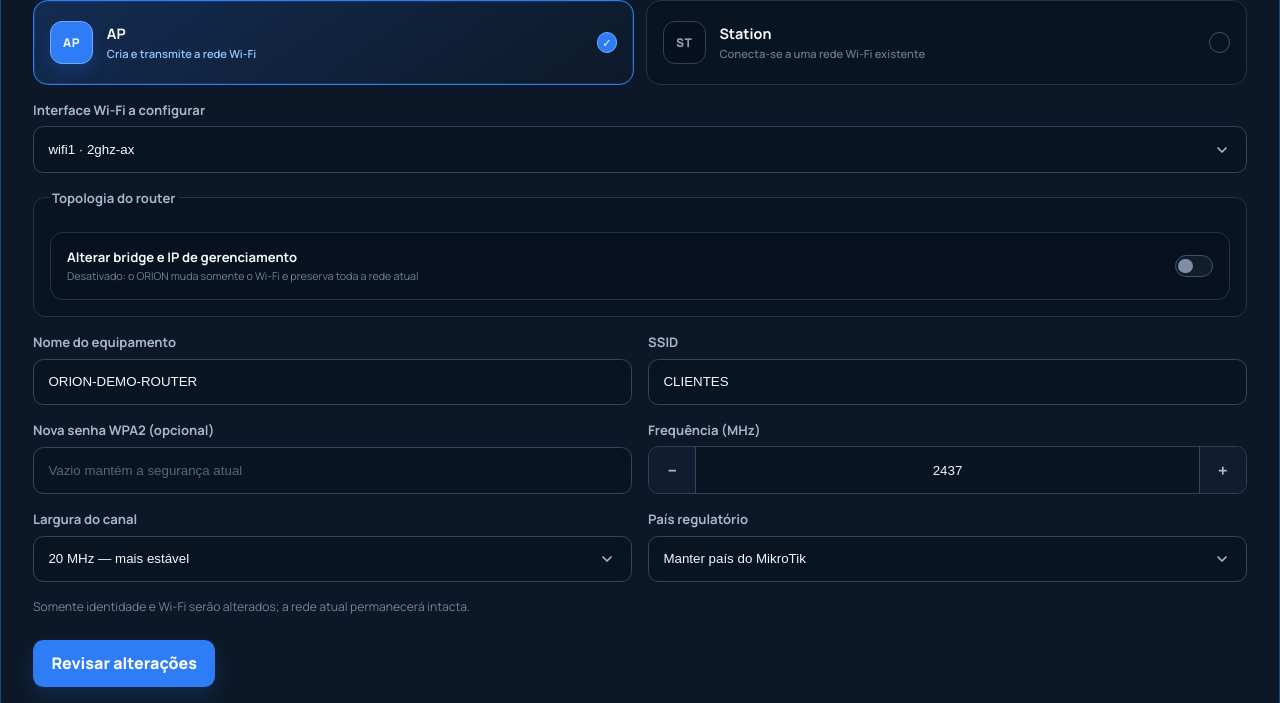
Test case: failed apply releases the operation guard and preserves the field draft
(page scrolled)
Click the button "Revisar alterações".
click(124, 664)  # box [33,640,215,687]
(page scrolled)
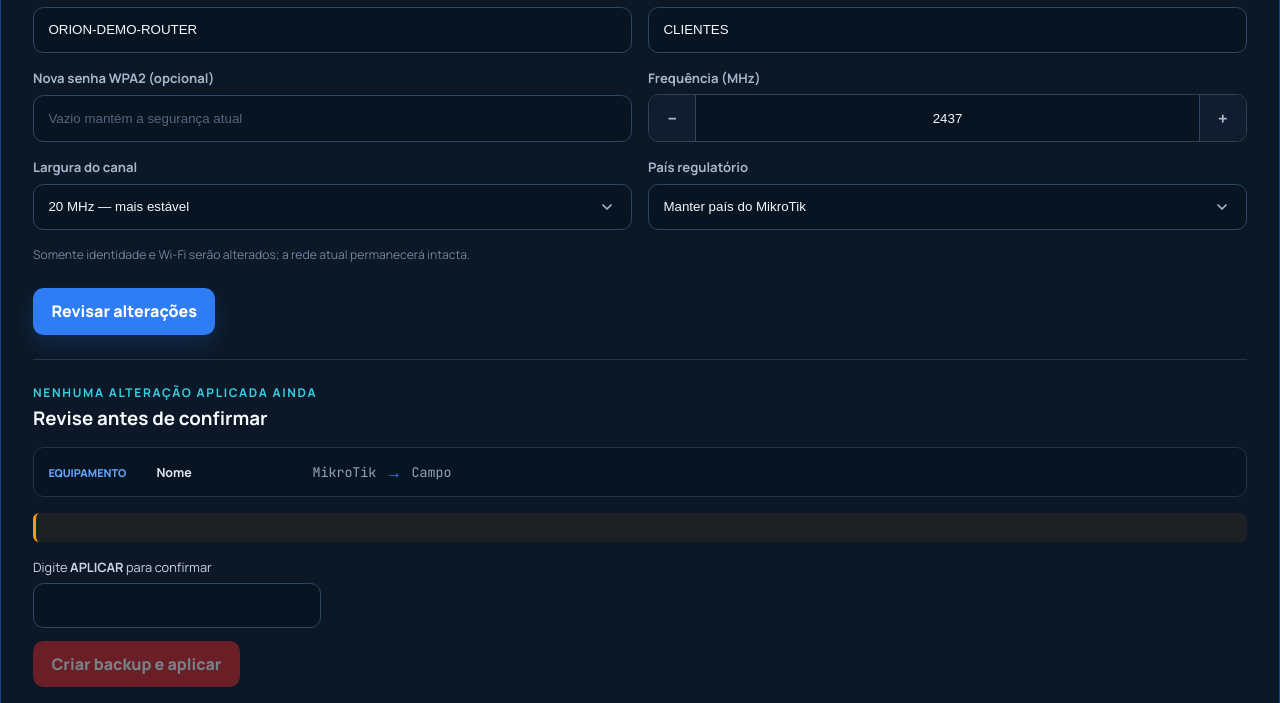
Type "APLICAR" into the field labelled "Digite APLICAR para confirmar".
click(177, 605); type("APLICAR")  # box [33,583,321,628]
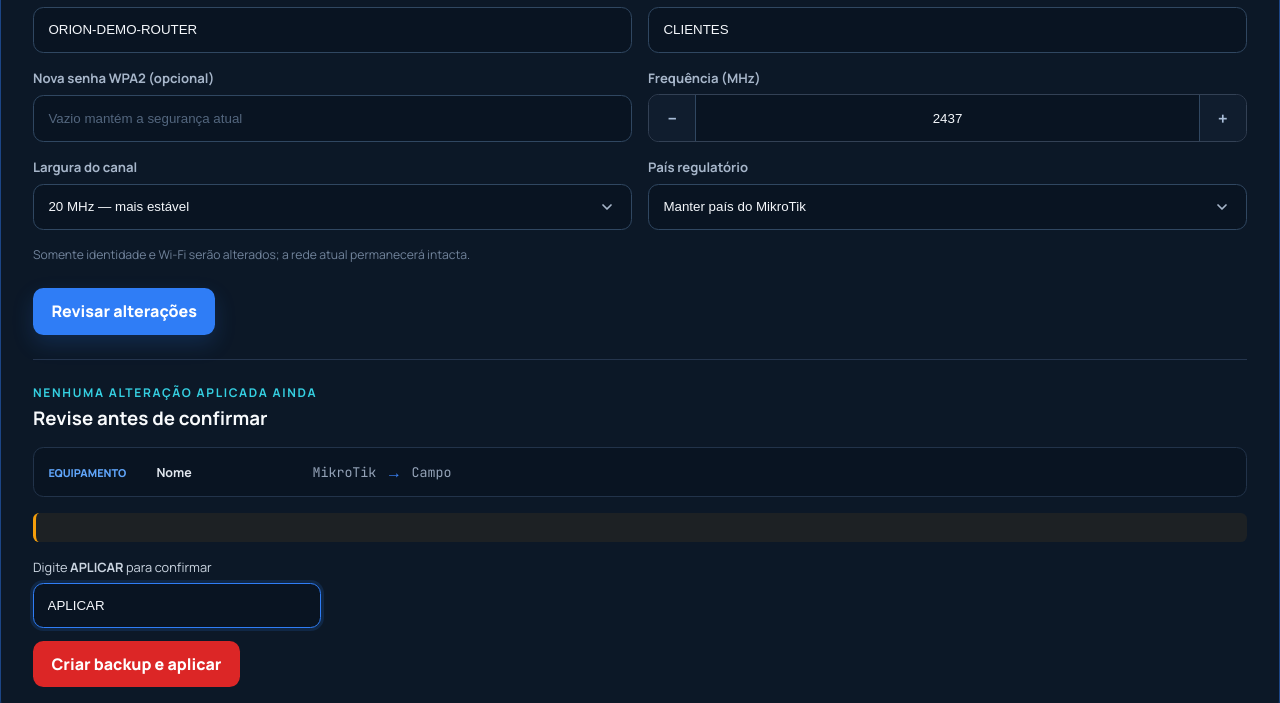
Click the button "Criar backup e aplicar".
click(136, 664)  # box [33,641,240,687]
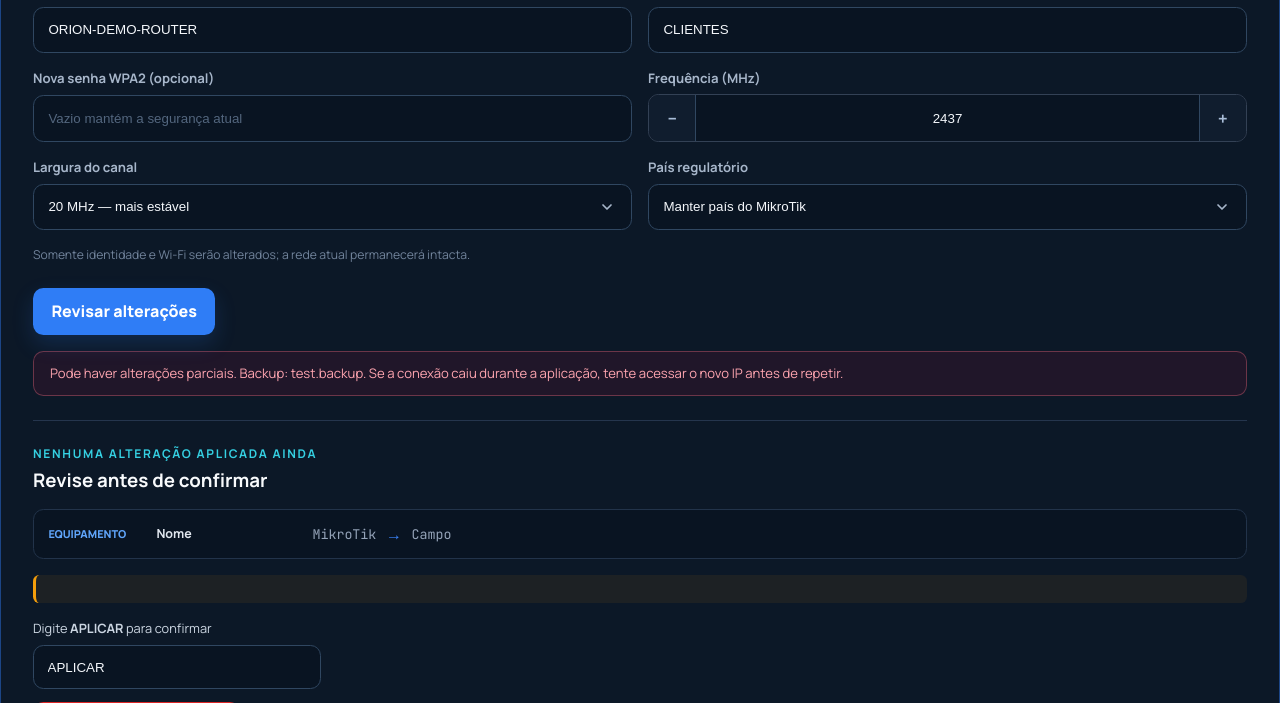
Expected: the field labelled "SSID" is not empty, [648,6,1247,53]
Now the message is shown, box [33,351,1247,396]
